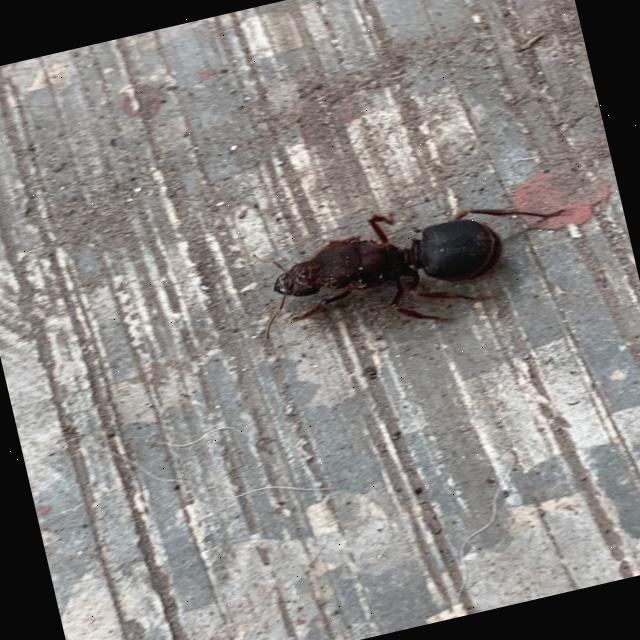Alive-Female-Dealate: (243, 172, 584, 364)
